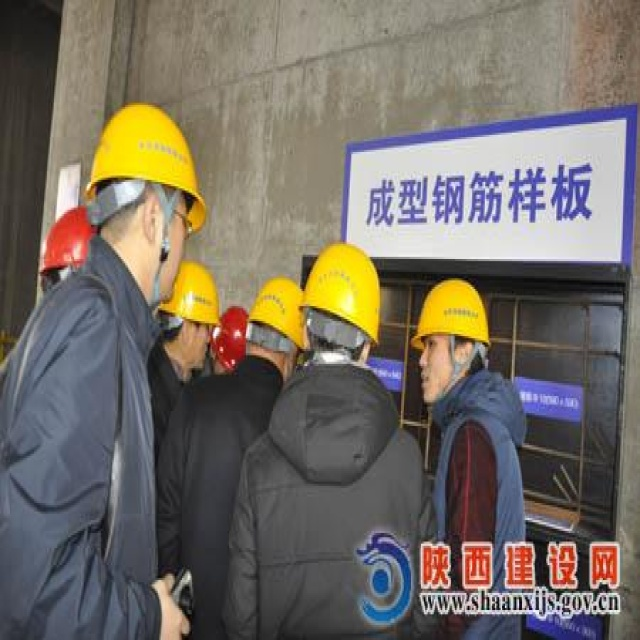Helmet: (78, 89, 217, 306), (295, 222, 391, 394), (404, 269, 510, 416), (153, 238, 232, 395), (243, 260, 311, 404), (30, 196, 105, 300)
